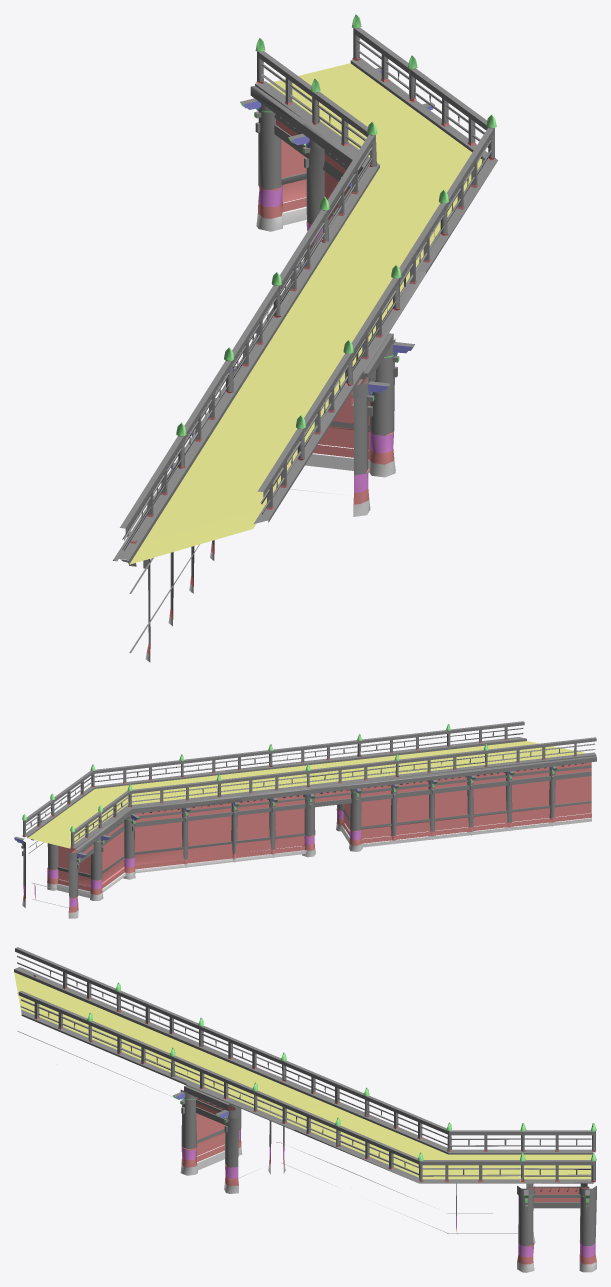
Rendered from SM_ENV_LKNVLD_WallSet_Bend_Lod3.gltf.
3 renders of one model, top to bottom at view 1: azimuth 30°, elevation 25°; view 2: azimuth 150°, elevation 25°; view 3: azimuth 270°, elevation 25°, orthographic. The views are drawn at different scales.
Parts seen in each view (by area): view 1: SM_ENV_LKNVLD_WallSet_Bend_Lod3; view 2: SM_ENV_LKNVLD_WallSet_Bend_Lod3; view 3: SM_ENV_LKNVLD_WallSet_Bend_Lod3.
Boxes of the visible parts, box(x1,y1,x2,y2) form: SM_ENV_LKNVLD_WallSet_Bend_Lod3: box(113, 14, 497, 662); SM_ENV_LKNVLD_WallSet_Bend_Lod3: box(14, 721, 596, 918); SM_ENV_LKNVLD_WallSet_Bend_Lod3: box(14, 947, 596, 1272).
Bounding box in the file's own units: 33.93 × 8.37 × 37.58.
